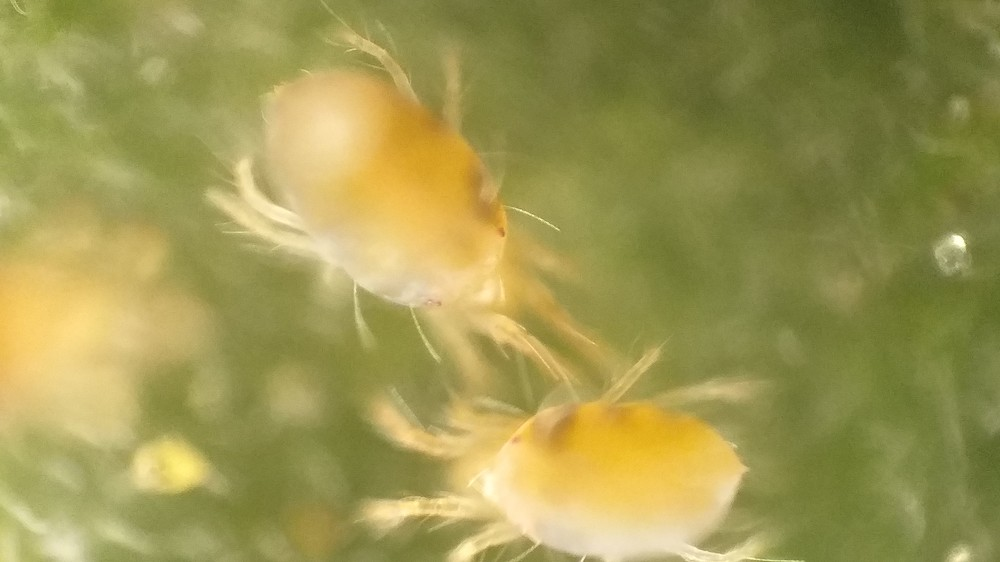Aracnido Rojo: (215, 35, 650, 390), (360, 377, 808, 562)
